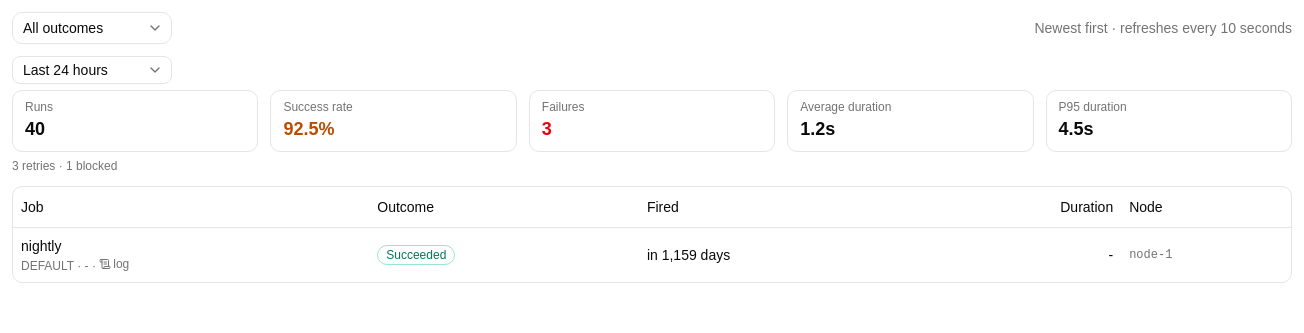
HistoryTable › run log › says while the log loads, and why it could not be loaded
What coordinates should you click on to do the following:
click the button "log"
I would click on:
 (114, 264)
Its box is [99, 256, 129, 272].
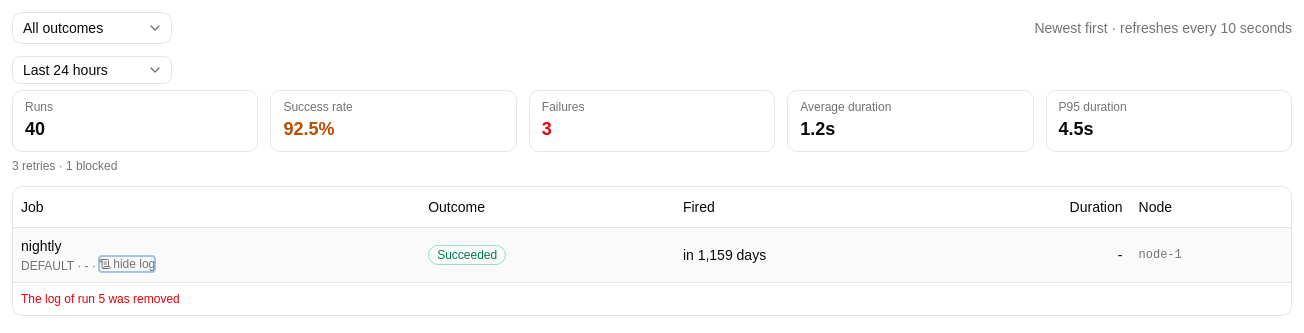
Now the text "The log of run 5 was removed" is shown, box [21, 292, 180, 306]
